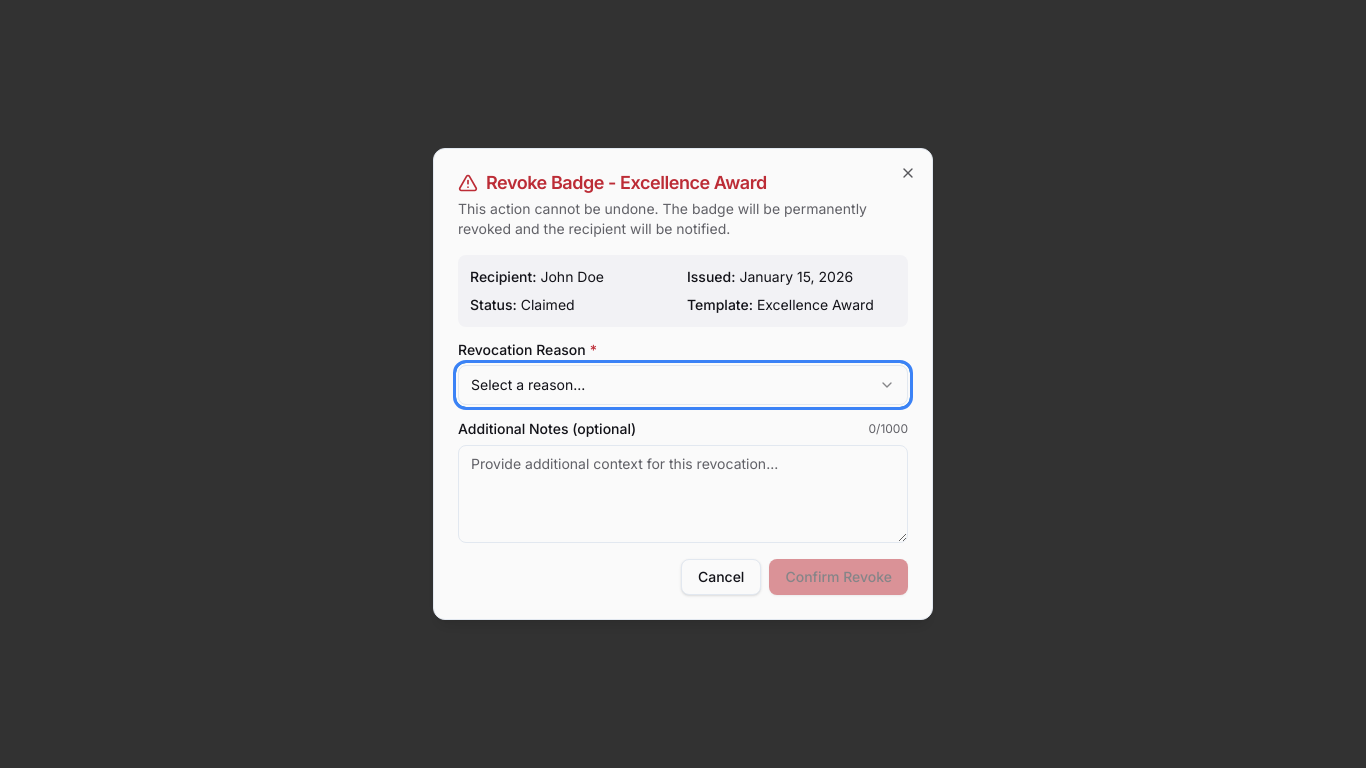
Test: RevokeBadgeModal › Form Validation › should update character count when typing notes
In the text box with placeholder "Provide additional context for this revocation...": [683, 494] box [458,445,908,543], type "Test note"
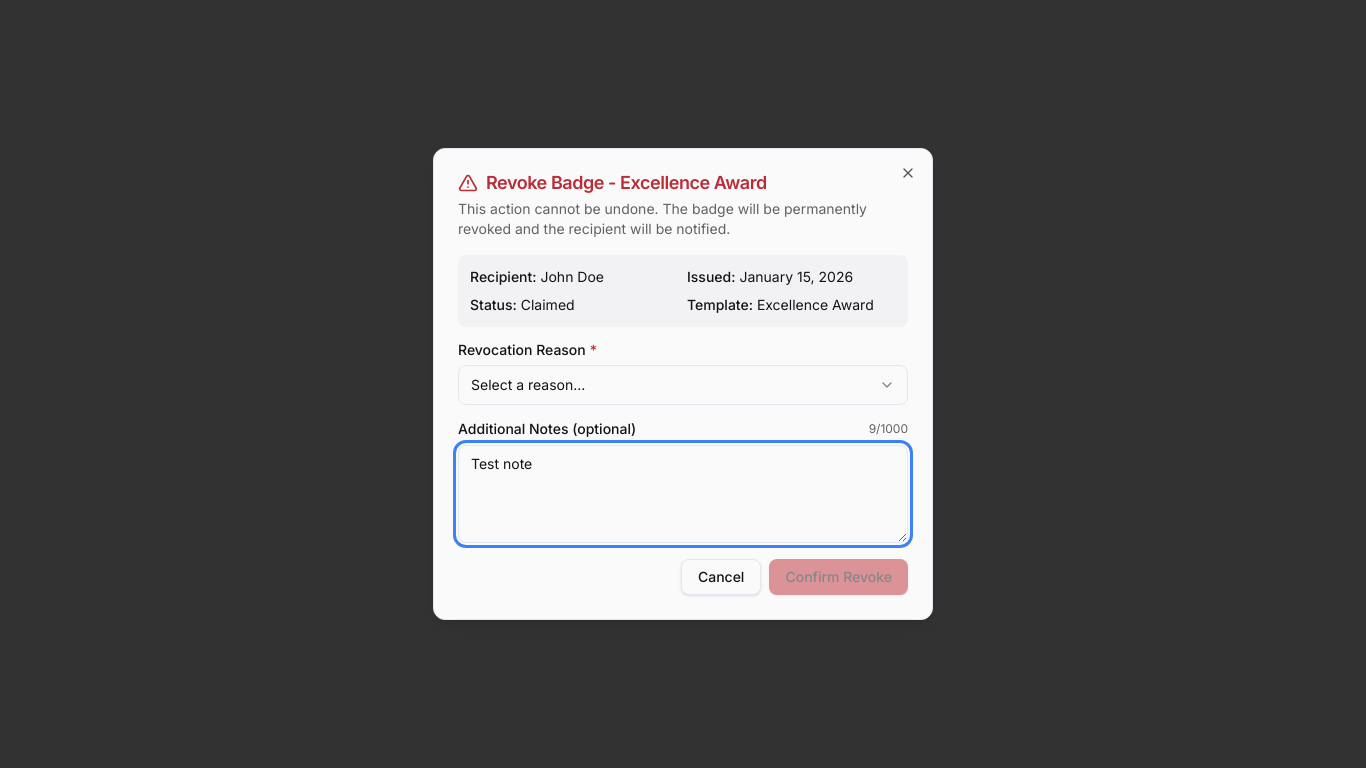
Result: the text "9/1000" is shown at [869,421,908,437]
